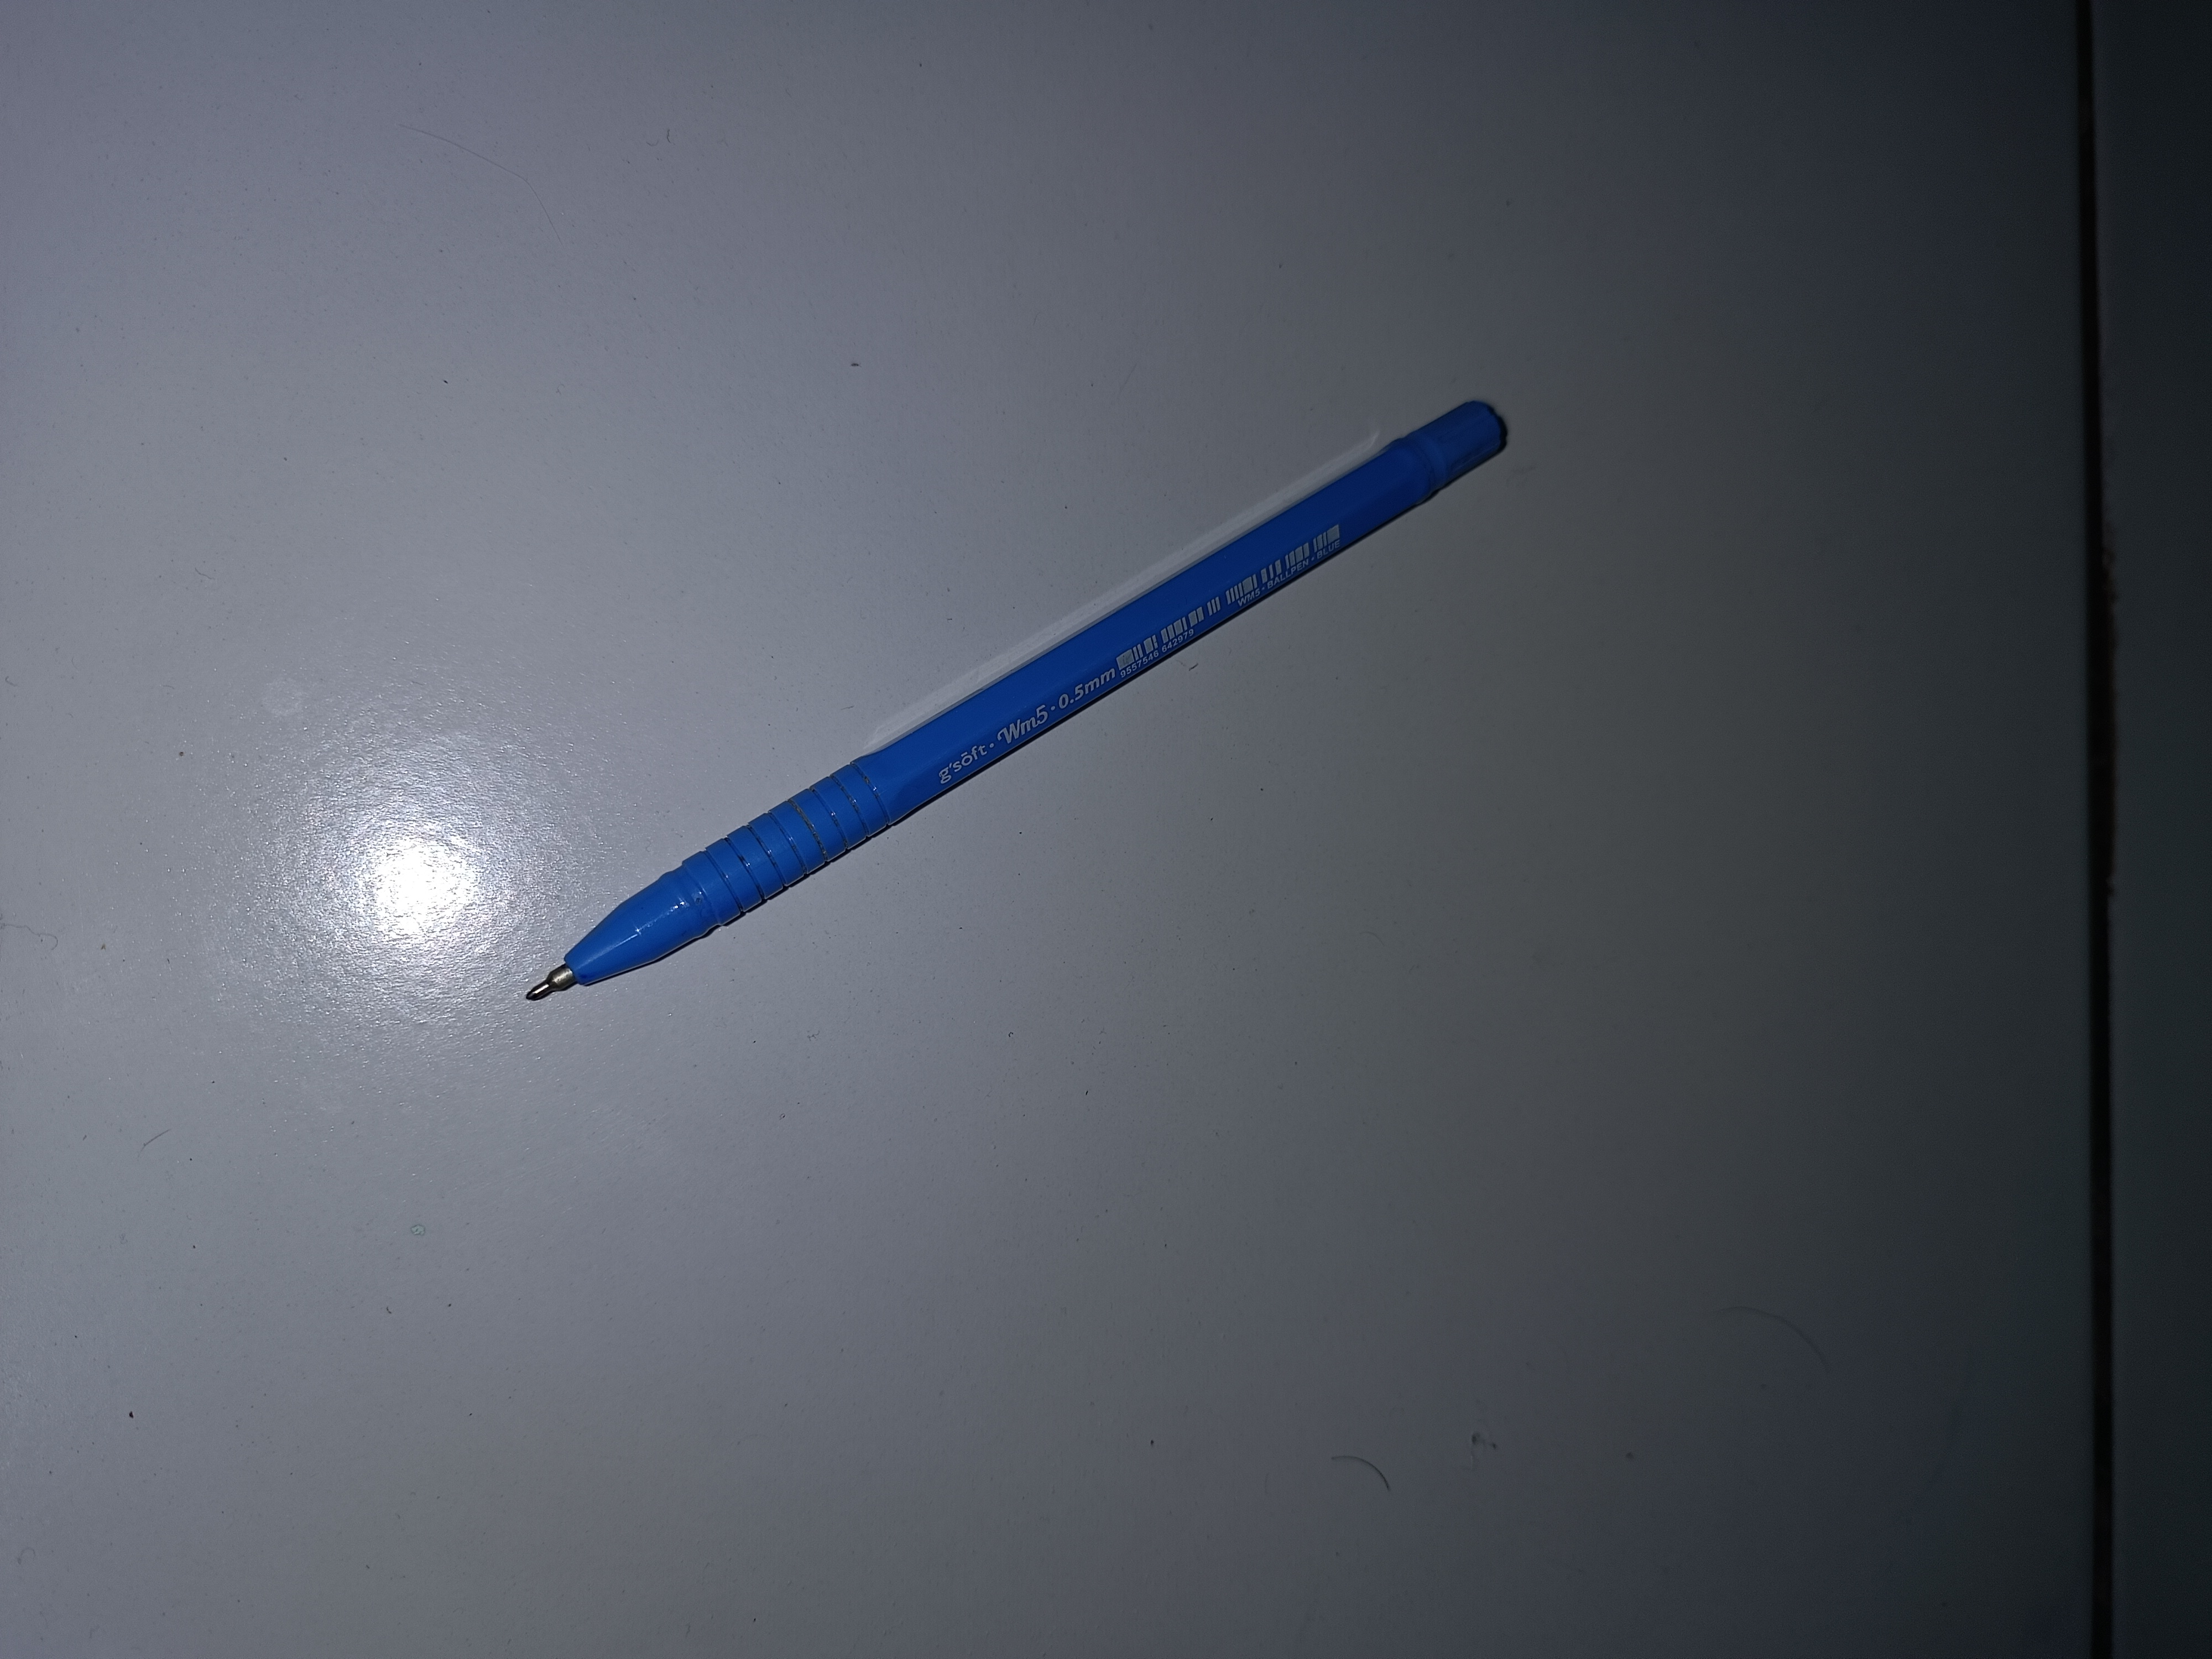Pen: (479, 343, 1507, 1145)
